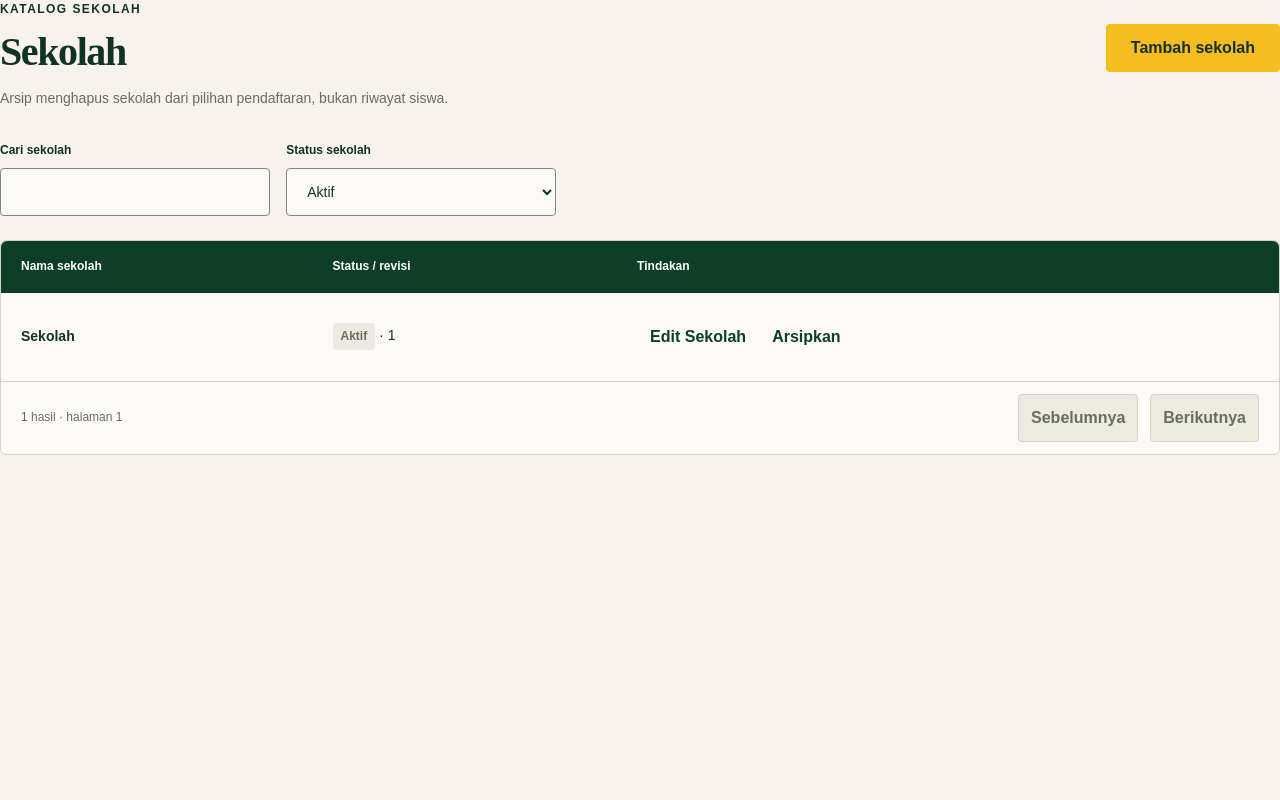
Test: school create 409 preserves name and archive requires confirmation
Later steps or results of the test are not shown.
Check: the text "Sekolah" is shown, box [21, 328, 75, 344]
Click the button "Tambah sekolah".
click(1193, 48)  # box [1106, 24, 1279, 72]
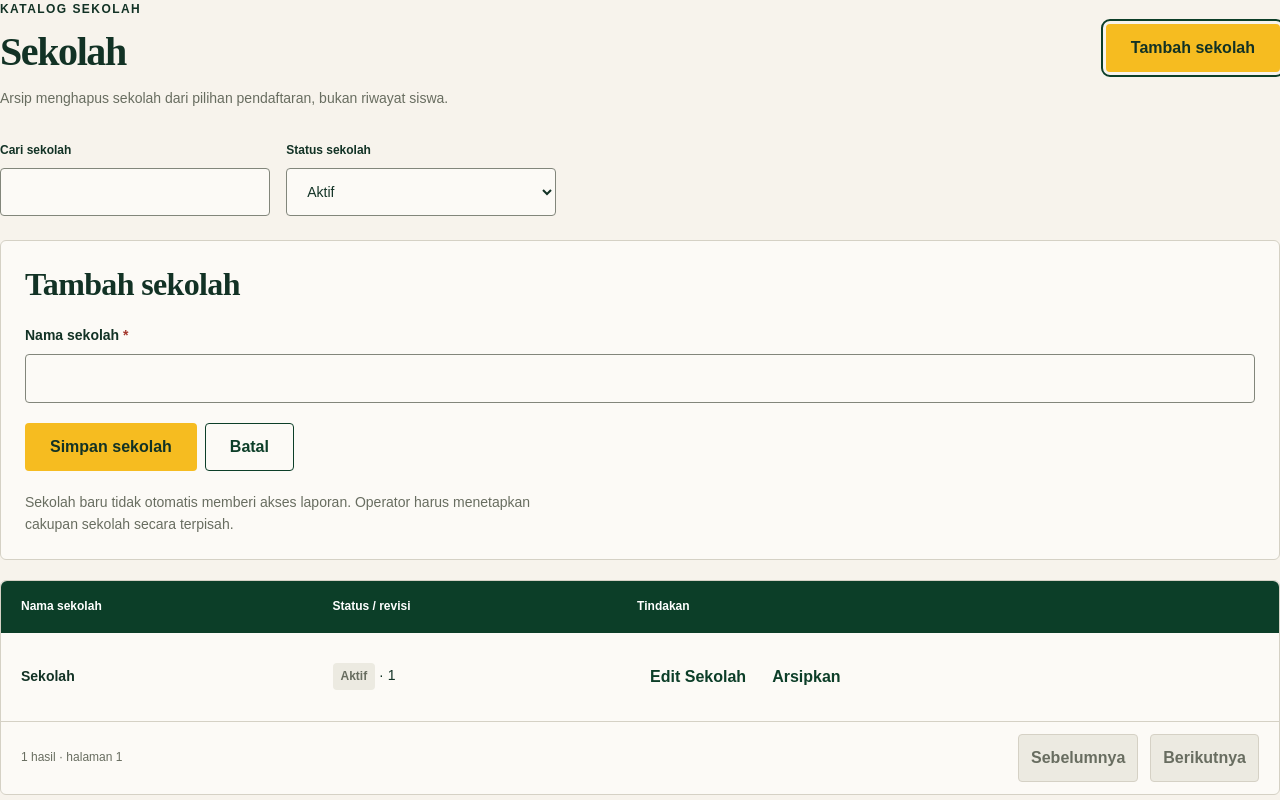
Type "Nama tetap" into the field labelled "Nama sekolah *".
click(640, 378); type("Nama tetap")  # box [25, 354, 1255, 403]
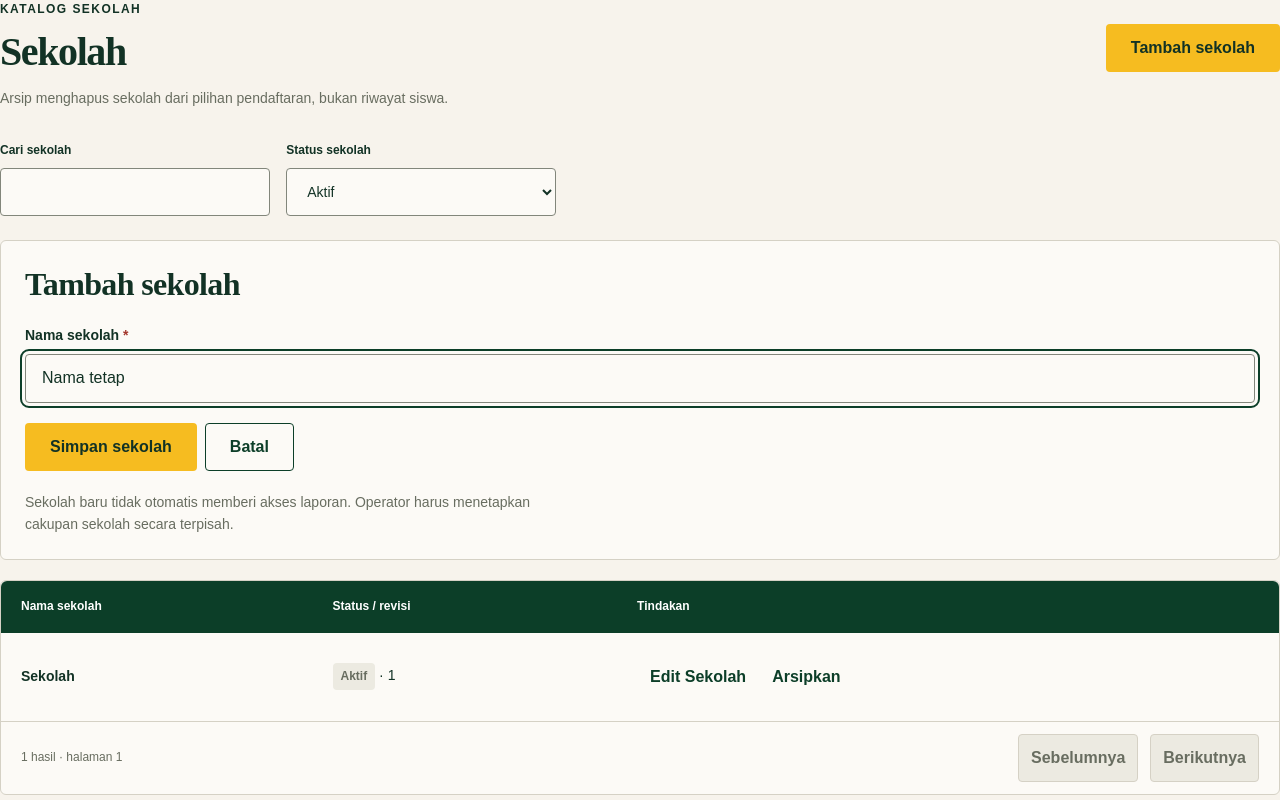
Click the button "Simpan sekolah".
click(111, 446)  # box [25, 422, 197, 470]
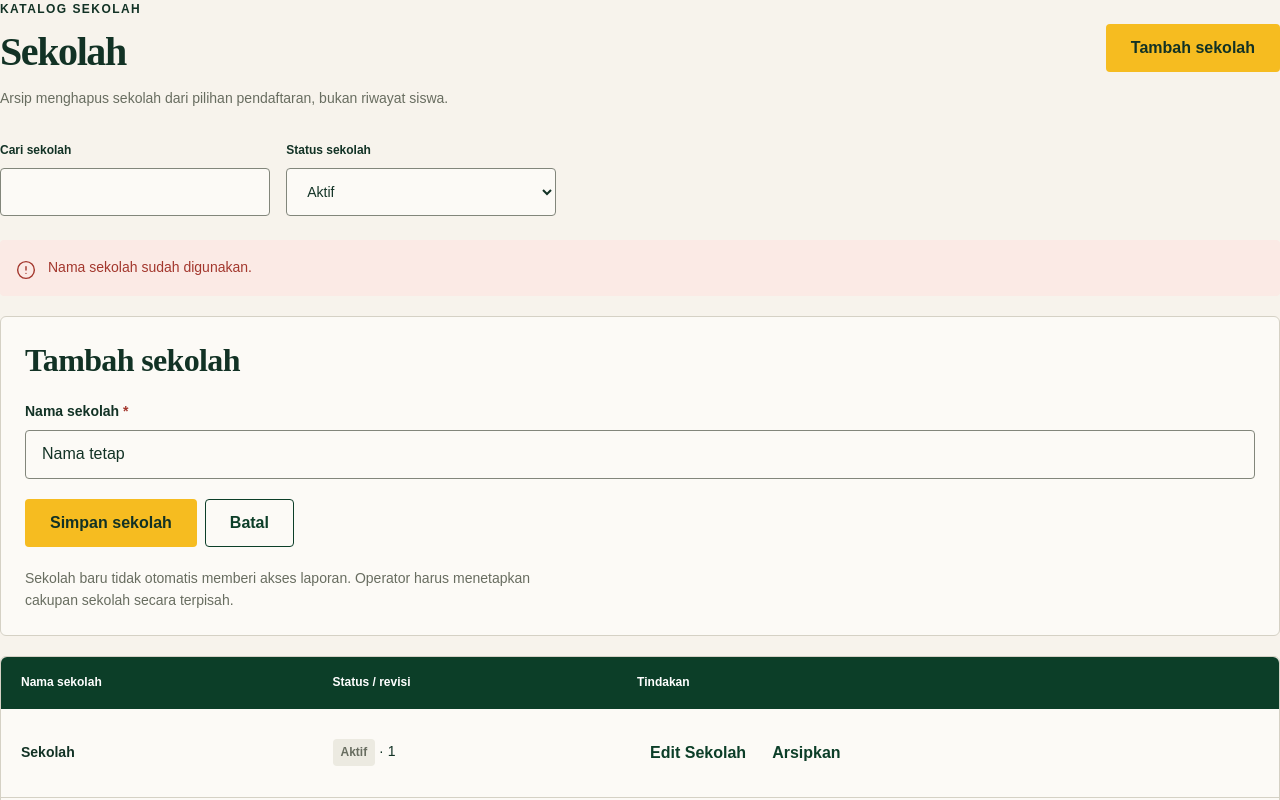
Check: the message "Nama sekolah sudah digunakan." is shown, box [0, 240, 1279, 296]
